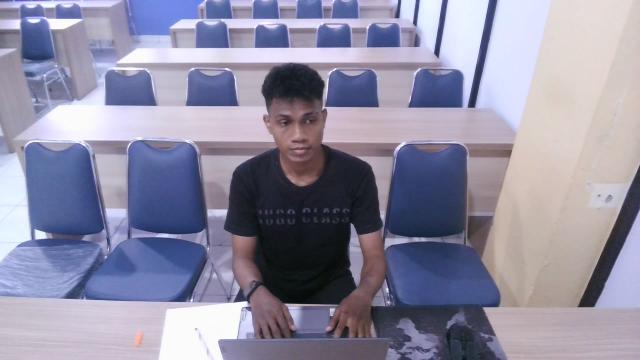Looking_Around: (219, 59, 387, 277)
